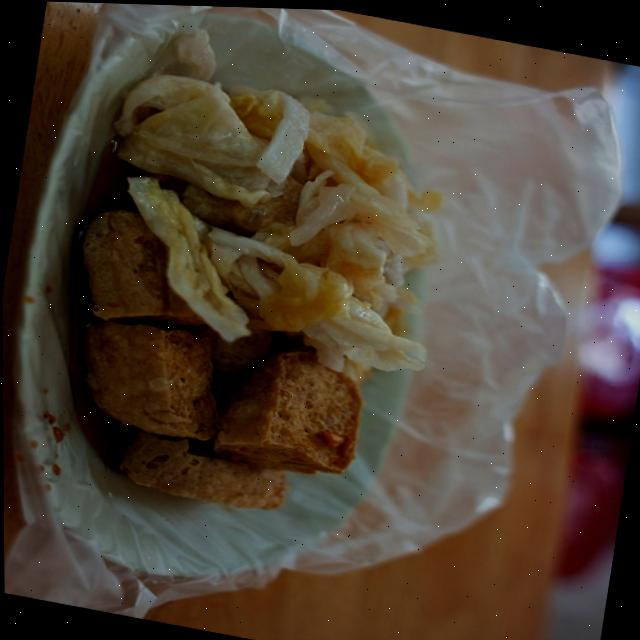豆腐料理: (0, 0, 628, 640)
